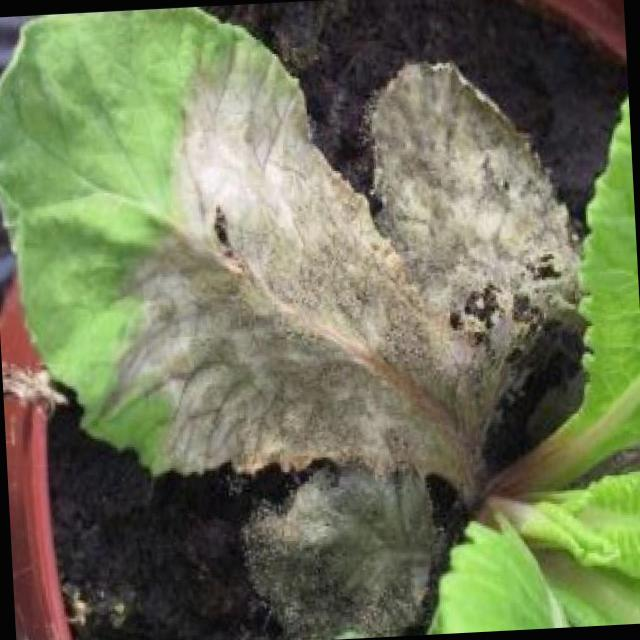Septoria_Blight: (5, 19, 608, 638)
